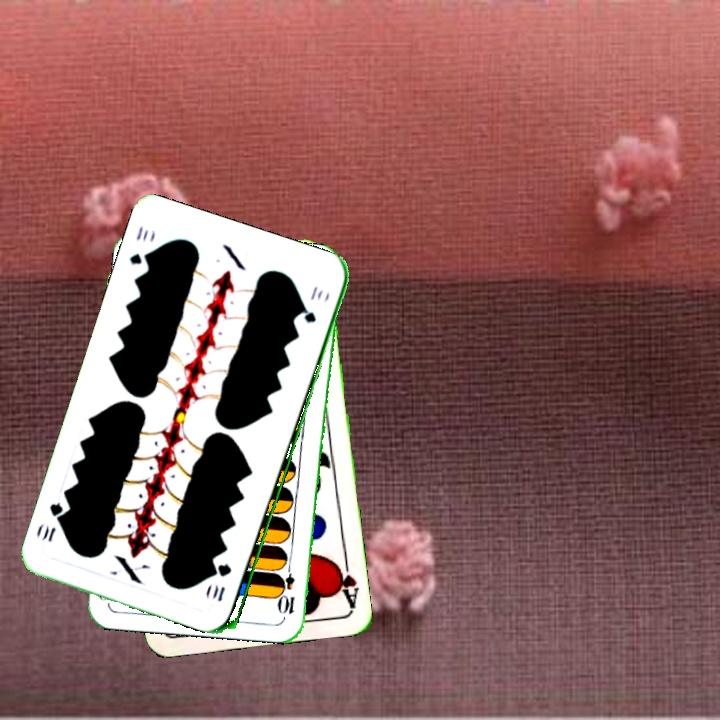E10: (278, 558, 298, 617)
G10: (125, 222, 154, 270), (208, 560, 234, 604)
HA: (330, 551, 361, 610)
